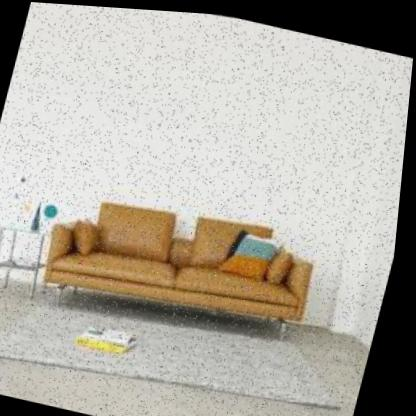Sofa: (23, 140, 361, 378)
